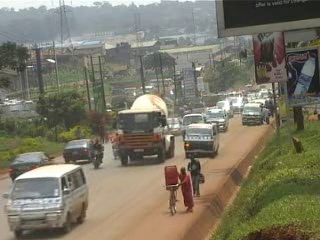Car: (8, 148, 59, 188), (61, 136, 100, 165), (163, 116, 183, 135), (214, 99, 233, 119)
Motorcycle: (89, 138, 104, 169), (108, 131, 122, 161)
